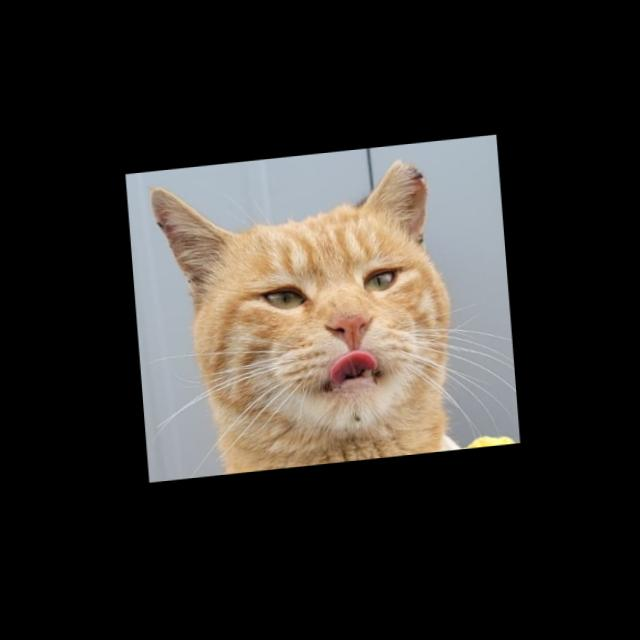animals: (140, 149, 460, 470)
